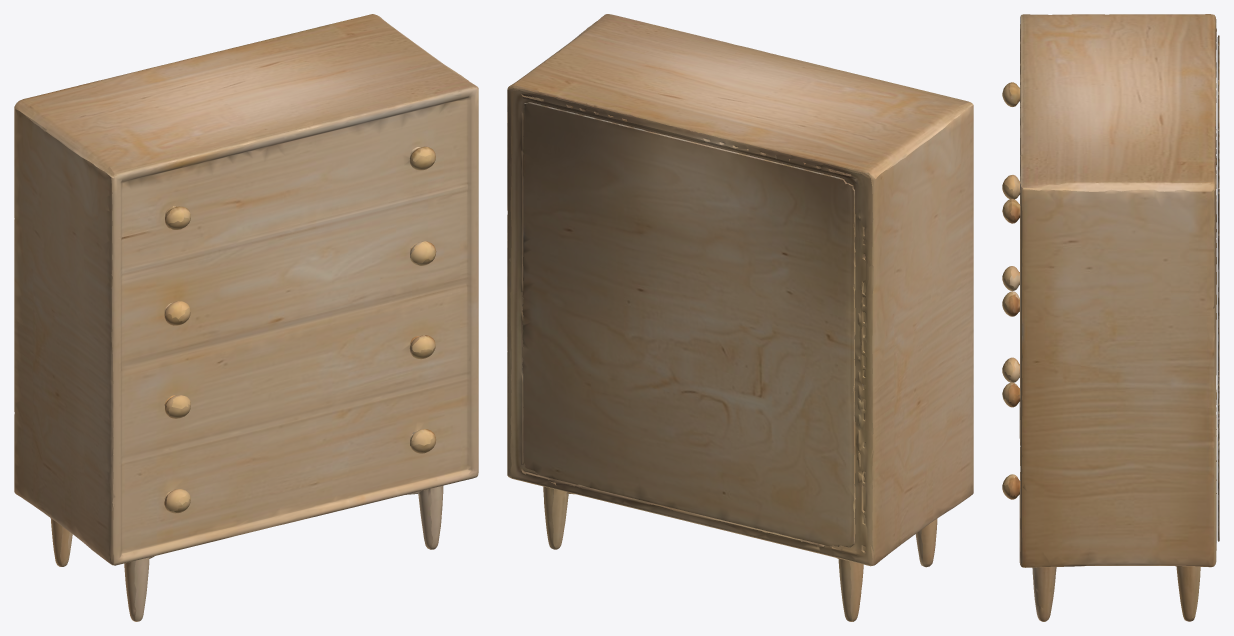
File: L_DRAWERS.japandi.glb
3 renders of one model, left to right at view 1: azimuth 30°, elevation 25°; view 2: azimuth 150°, elevation 25°; view 3: azimuth 270°, elevation 25°, orthographic. The views are drawn at different scales.
Parts seen in each view (by area): view 1: geometry_0; view 2: geometry_0; view 3: geometry_0.
Boxes of the visible parts, x1,y1,x2,y2 form: geometry_0: (14,14,478,621); geometry_0: (507,14,973,621); geometry_0: (1002,14,1219,621).
Bounding box in the file's own units: 0.8709 × 1.05 × 0.4574.
1 material, 1 textured.
